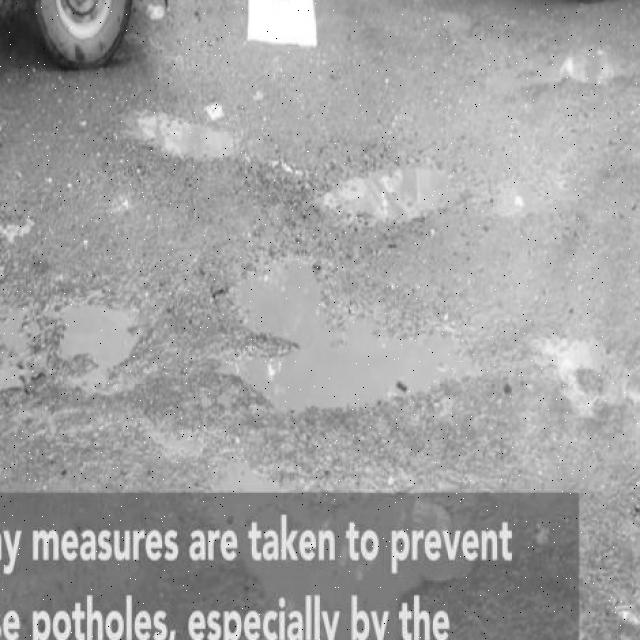pothole: (211, 257, 467, 421), (0, 291, 138, 401), (324, 171, 462, 230)
